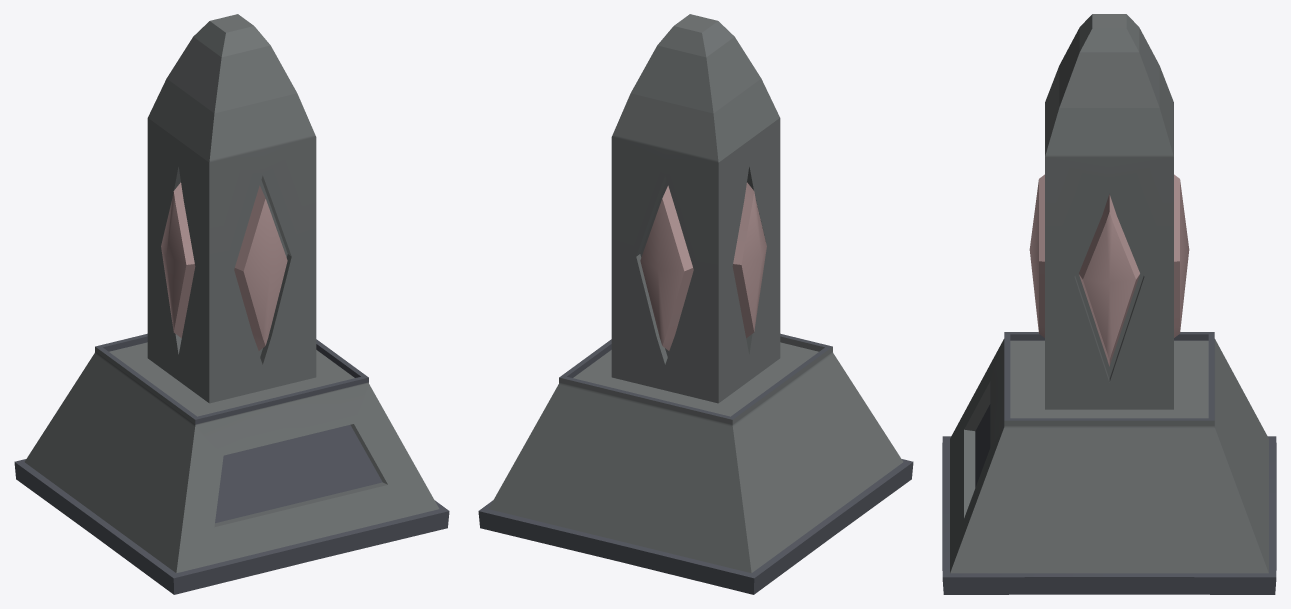
Rendered from 3Dobject_tombstone_withlights.fbx.
The picture shows the model from 3 angles, left to right: view 1: azimuth 30°, elevation 25°; view 2: azimuth 150°, elevation 25°; view 3: azimuth 270°, elevation 25°; orthographic projection. The views are drawn at different scales.
Parts seen in each view (by area): view 1: tombstone; view 2: tombstone; view 3: tombstone.
Boxes of the visible parts, box(x1,y1,x2,y2) form: tombstone: box(14, 14, 449, 594); tombstone: box(478, 14, 913, 594); tombstone: box(942, 14, 1276, 594).
Size of the model in its own units: 2.3 by 3.83 by 2.3.
